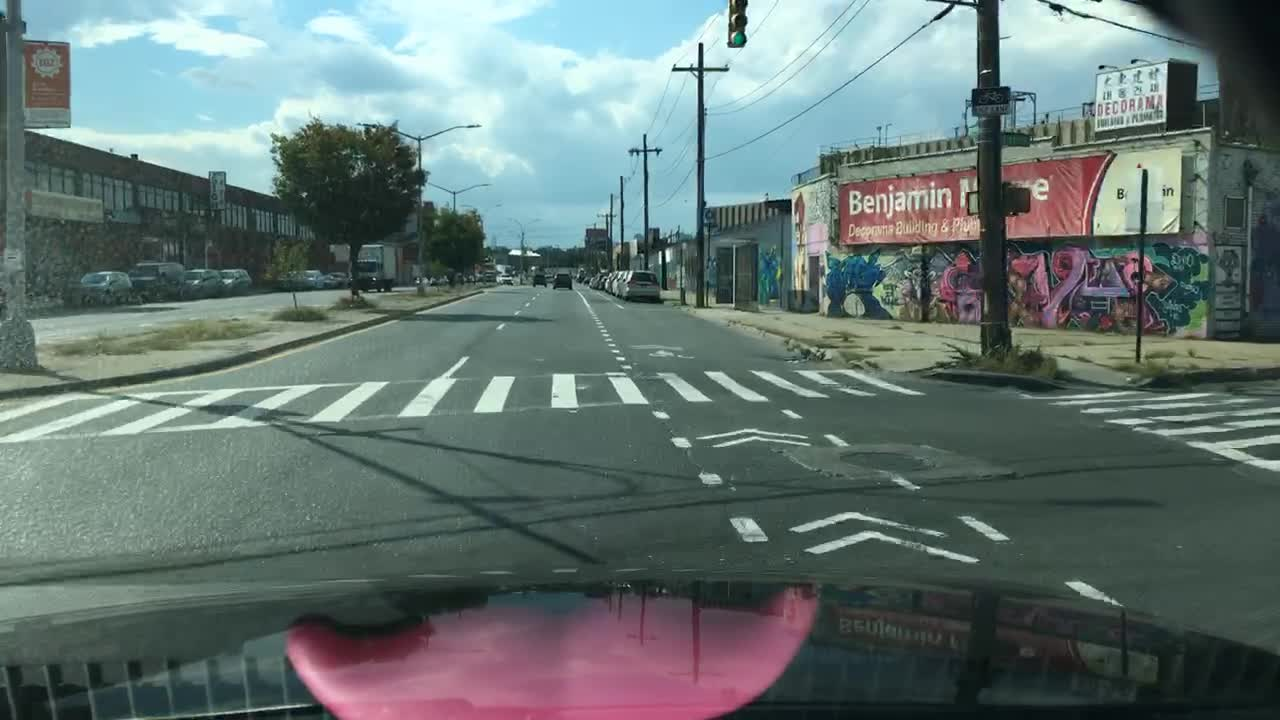car: (62, 268, 135, 307), (128, 260, 185, 300), (616, 268, 663, 304), (179, 265, 221, 299), (276, 266, 324, 292), (217, 268, 251, 293), (550, 268, 573, 290), (606, 268, 626, 293), (600, 268, 617, 288), (317, 272, 336, 288), (498, 272, 518, 287), (334, 270, 351, 287), (592, 272, 609, 287), (411, 273, 428, 287), (532, 273, 548, 287), (587, 272, 600, 287), (425, 273, 438, 285)
traffic light: (725, 0, 747, 45), (1002, 185, 1032, 212), (962, 191, 978, 216)
traffic sign: (1122, 169, 1161, 233), (968, 86, 1009, 113), (999, 131, 1032, 148)
truck: (349, 241, 400, 295)
